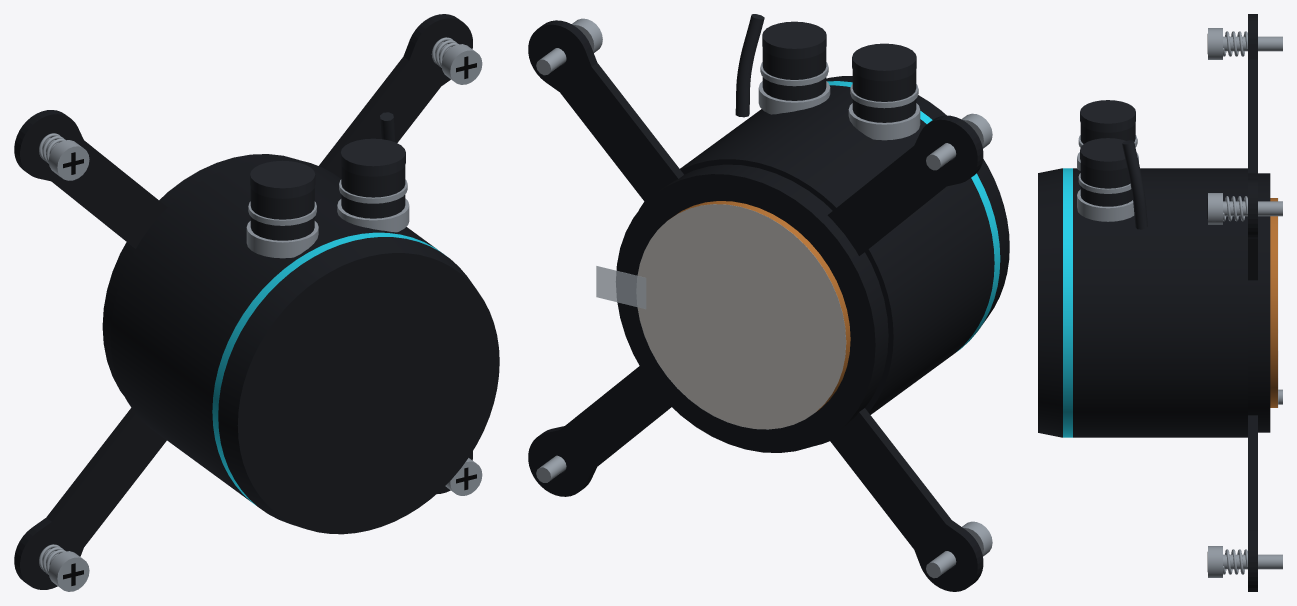
Rendered from g_aio_pump.glb.
3 renders of one model, left to right at view 1: azimuth 30°, elevation 25°; view 2: azimuth 150°, elevation 25°; view 3: azimuth 270°, elevation 25°, orthographic. The views are drawn at different scales.
Parts seen in each view (by area): view 1: part_aio_pump; view 2: part_aio_pump, peel_film; view 3: part_aio_pump.
Part boxes in pixels (bbox=[...]): part_aio_pump: bbox=[14, 14, 499, 591]; part_aio_pump: bbox=[528, 14, 1009, 591]; peel_film: bbox=[596, 204, 846, 429]; part_aio_pump: bbox=[1038, 14, 1282, 591].
Bounding box in the file's own units: 0.8995 × 0.8995 × 0.49.
